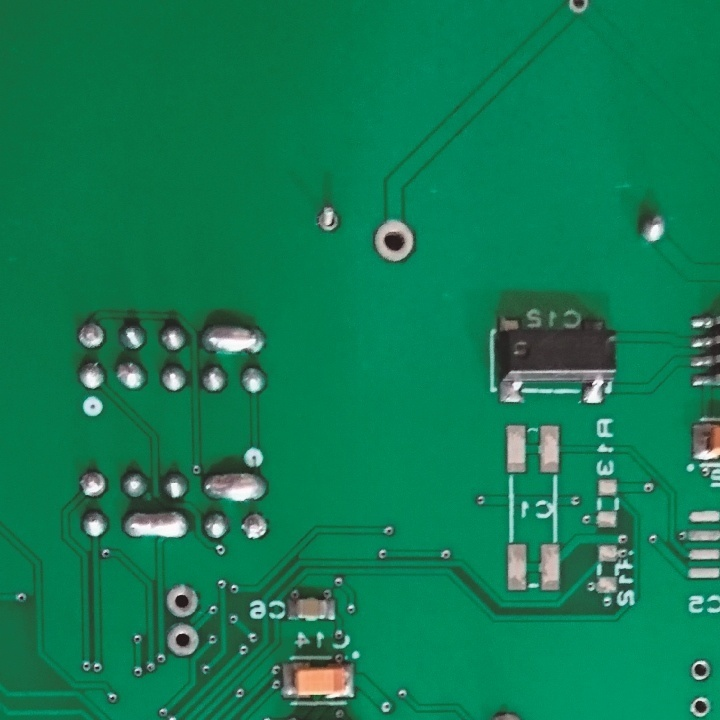F: (370, 216, 419, 265), (163, 580, 206, 622), (161, 621, 205, 661), (76, 466, 110, 500), (74, 318, 107, 352), (237, 512, 273, 542), (313, 202, 343, 237), (561, 1, 598, 21), (689, 657, 713, 684), (687, 696, 714, 720)
P: (199, 317, 265, 358), (198, 468, 268, 503), (121, 511, 190, 542)
